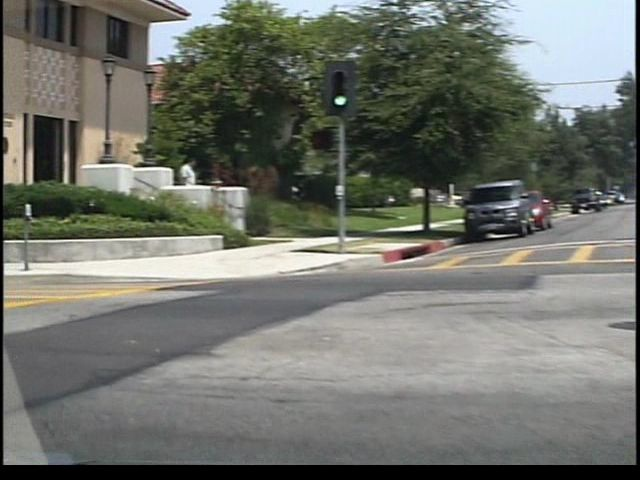person: (168, 151, 190, 219)
